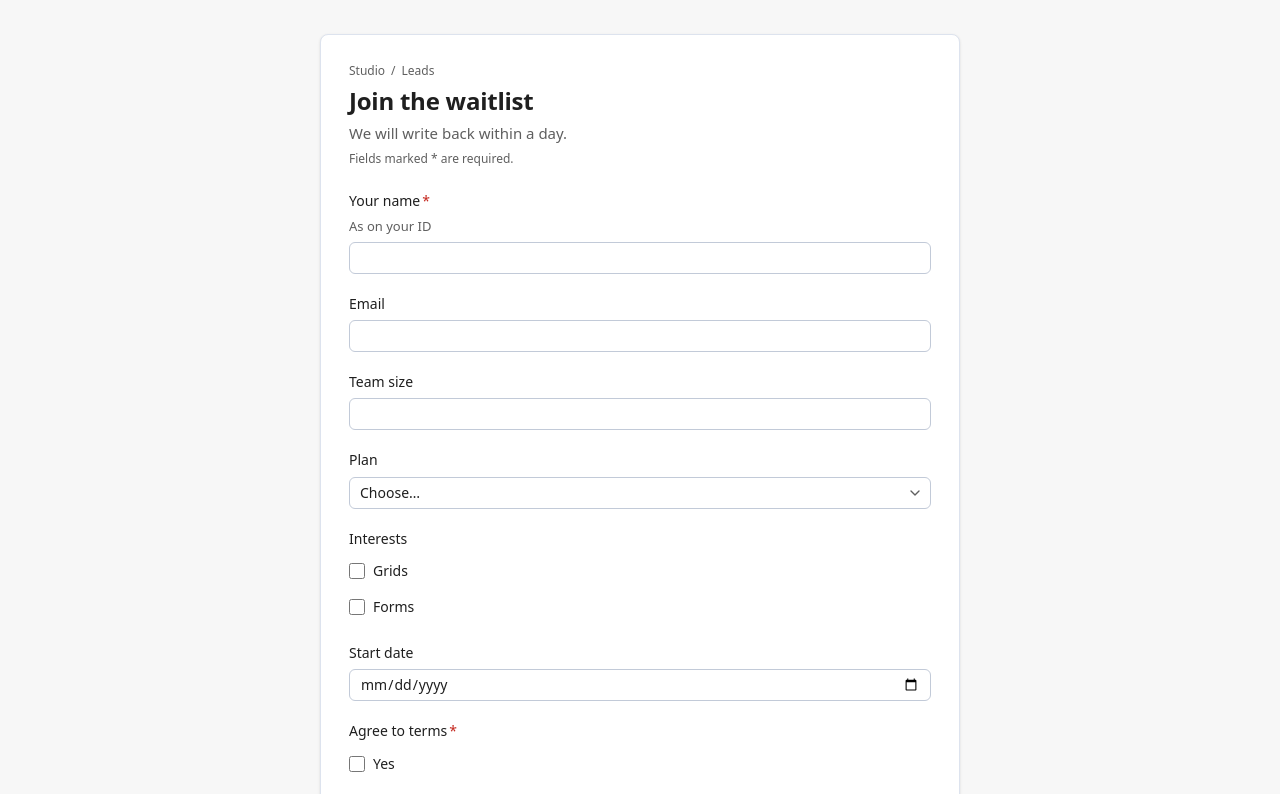
a public form › keeps the answers and explains a refusal by the server
The image size is (1280, 794).
Type "Ada Lovelace" into the field labelled "Your name*" at (640, 258), box [349,242,931,274]
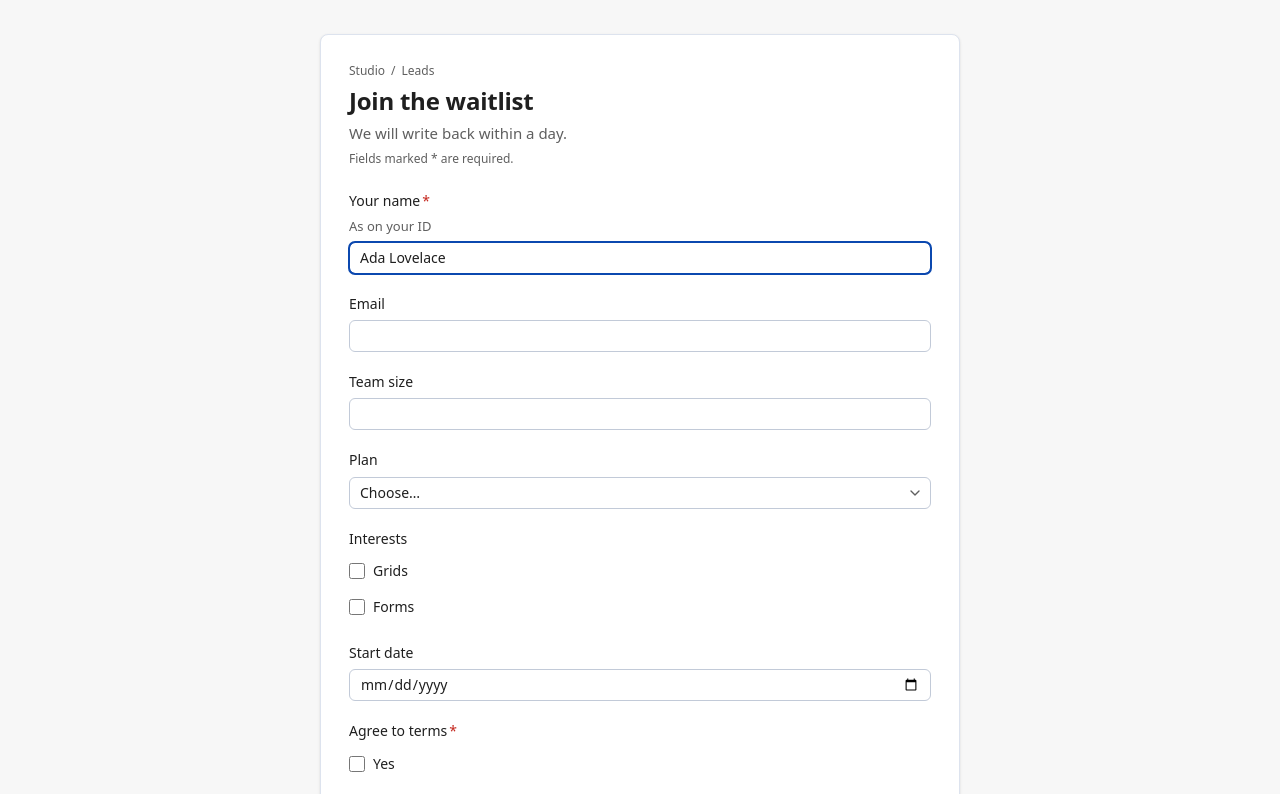
Click the checkbox labelled "Agree to terms*" at (357, 764), box [349,756,365,772]
(page scrolled)
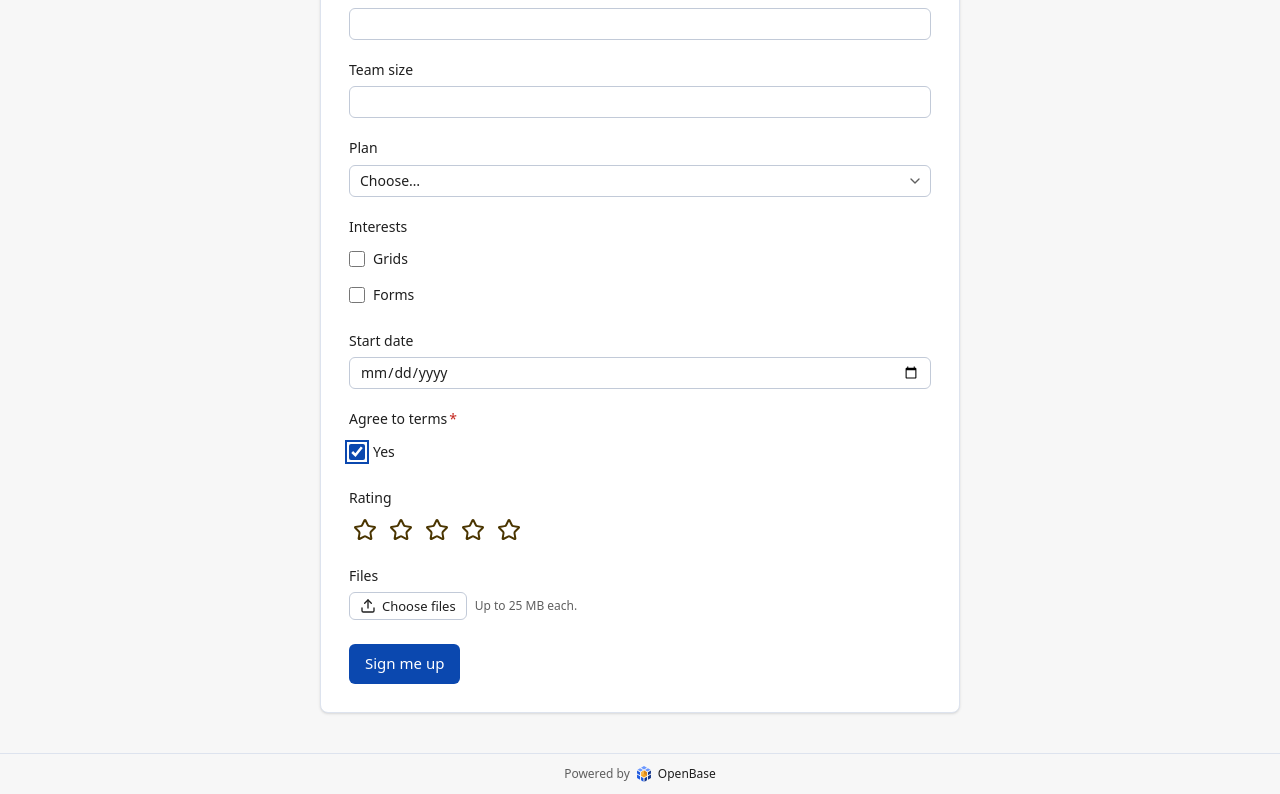
Click the button "Sign me up" at (405, 664), box [349,644,460,684]
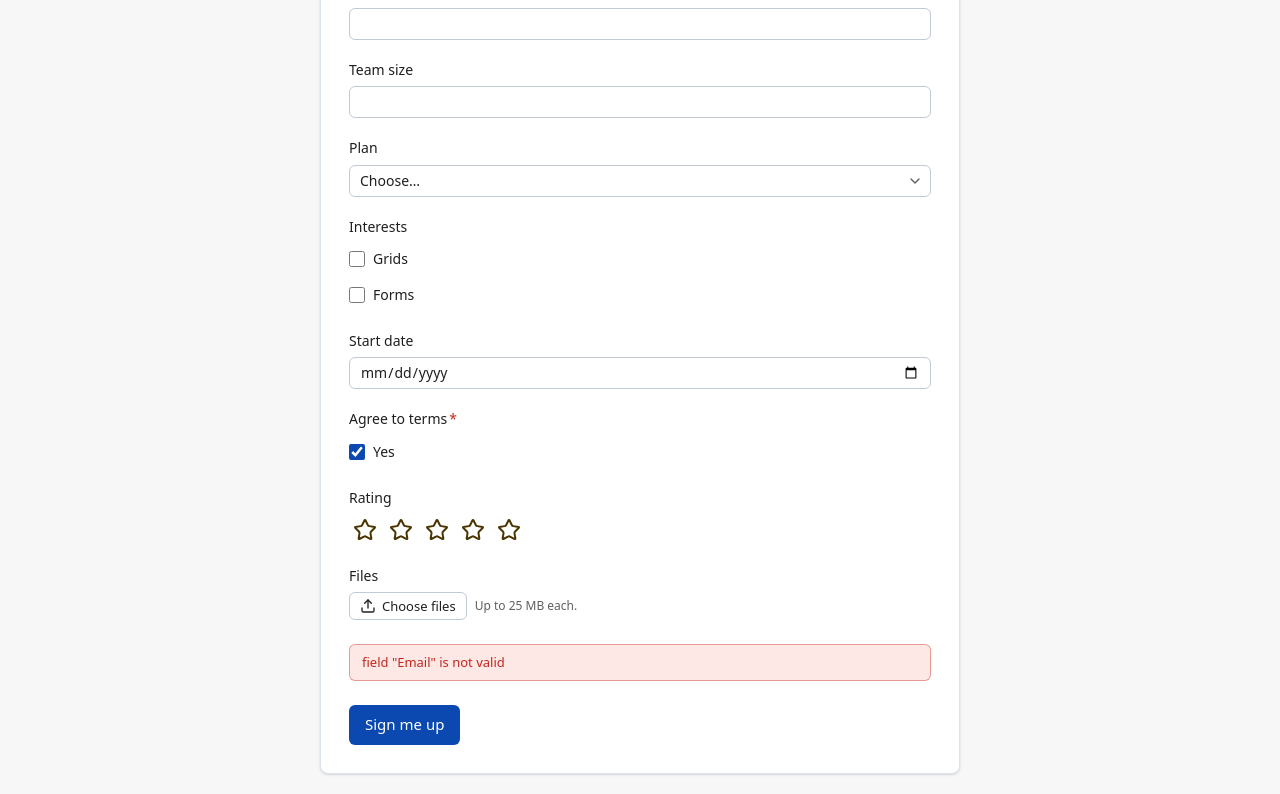
Expected: the button "Sign me up" is enabled, [349,705,460,745]
Result: the text "field \"Email\" is not valid" is shown at [349,644,931,681]
